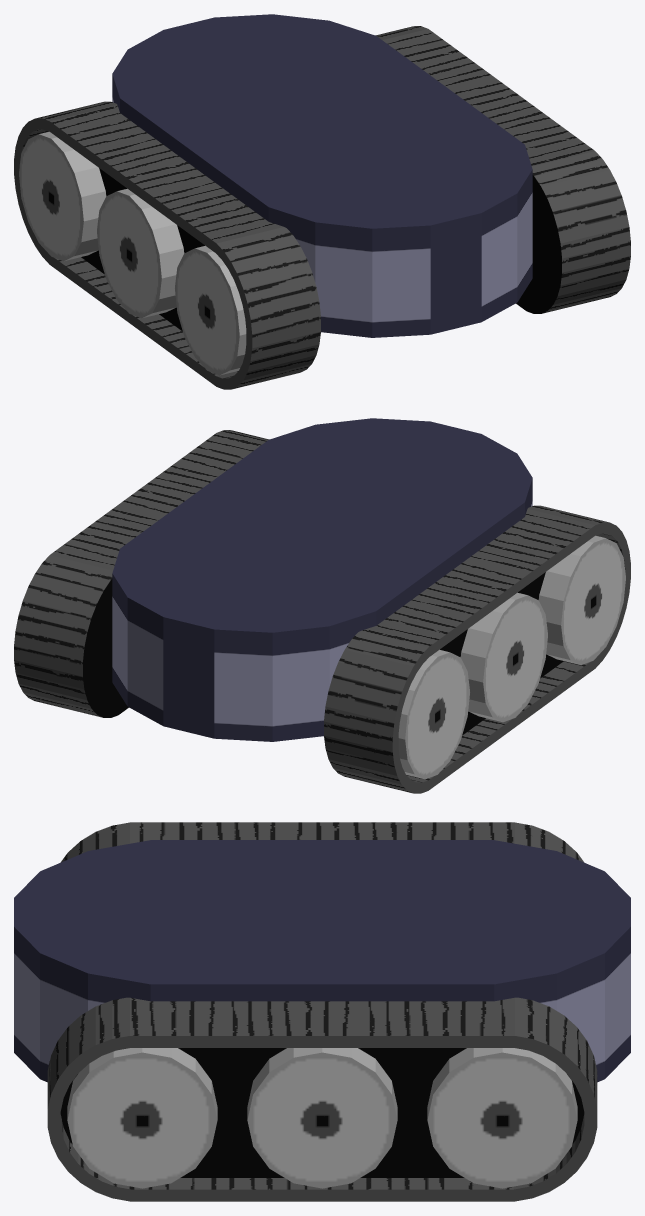
The model's file is Tracks.fbx.
The picture shows the model from 3 angles, top to bottom: view 1: azimuth 30°, elevation 25°; view 2: azimuth 150°, elevation 25°; view 3: azimuth 270°, elevation 25°; orthographic projection. The views are drawn at different scales.
Visible parts, largest first — view 1: Cylinder.008, Cylinder.004, Cylinder, Cylinder.005, Cylinder.007, Cylinder.006; view 2: Cylinder.008, Cylinder.004, Cylinder, Cylinder.006, Cylinder.007, Cylinder.005; view 3: Cylinder.008, Cylinder, Cylinder.003, Cylinder.001, Cylinder.002, Cylinder.004.
Part boxes in pixels (box(x1,y1,x2,y2)): Cylinder.008: box(112, 14, 532, 337); Cylinder.004: box(14, 101, 320, 389); Cylinder: box(375, 26, 630, 313); Cylinder.005: box(19, 131, 106, 261); Cylinder.007: box(97, 188, 184, 318); Cylinder.006: box(175, 245, 246, 375); Cylinder.008: box(112, 418, 532, 741); Cylinder.004: box(324, 505, 630, 793); Cylinder: box(14, 430, 269, 717); Cylinder.006: box(538, 535, 625, 665); Cylinder.007: box(460, 592, 547, 722); Cylinder.005: box(398, 649, 469, 779); Cylinder.008: box(14, 840, 630, 1082); Cylinder: box(47, 997, 597, 1201); Cylinder.003: box(247, 1048, 397, 1188); Cylinder.001: box(67, 1048, 217, 1188); Cylinder.002: box(427, 1048, 577, 1188); Cylinder.004: box(60, 822, 584, 862).
Bounding box in the file's own units: 561 × 219 × 672.
